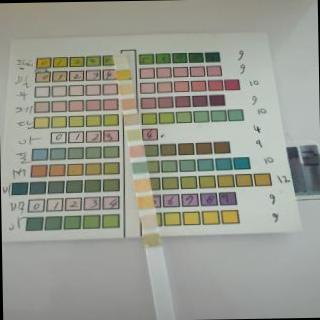mark: (136, 196, 152, 210), (134, 178, 149, 192), (144, 234, 158, 247), (141, 216, 157, 227), (128, 146, 142, 158), (132, 162, 146, 174), (115, 56, 128, 67), (125, 114, 136, 126), (127, 130, 139, 141), (120, 84, 132, 94), (123, 99, 135, 109), (118, 71, 129, 81)
